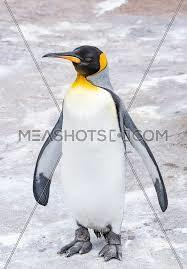king: (34, 43, 162, 259)
